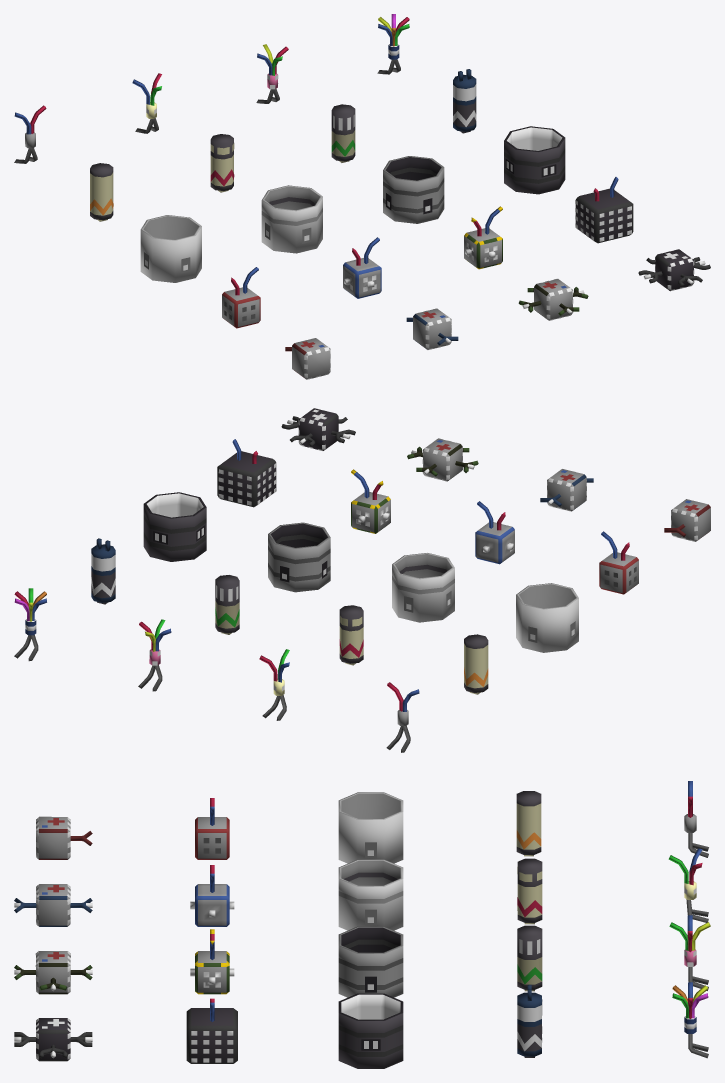
Rendered from MachineParts.fbx.
3 views of the same model, one above another, from view 1: azimuth 30°, elevation 25°; view 2: azimuth 150°, elevation 25°; view 3: azimuth 270°, elevation 25° (orthographic). The views are drawn at different scales.
Visible parts, largest first — view 1: BluespaceMatterBin, MatterBin, AdvancedMatterBin, SuperMatterBin, QuadraticCapacitor, TriphasicScanningModule, PhasicScanningModule, SuperCapacitor, AdvancedCapacitor, Capacitor, AdvancedScanningModule, ScanningModule (+8 smaller); view 2: BluespaceMatterBin, SuperMatterBin, MatterBin, AdvancedMatterBin, QuadraticCapacitor, TriphasicScanningModule, PhasicScanningModule, SuperCapacitor, AdvancedCapacitor, Capacitor, AdvancedScanningModule, QuadUltraHighPowerMicroLaser (+8 smaller); view 3: BluespaceMatterBin, MatterBin, AdvancedMatterBin, SuperMatterBin, QuadraticCapacitor, TriphasicScanningModule, PhasicScanningModule, AdvancedScanningModule, SuperCapacitor, AdvancedCapacitor, QuadUltraHighPowerMicroLaser, HighPowerMicroLaser (+8 smaller).
Boxes of the visible parts, box(x1,y1,x2,y2) form: BluespaceMatterBin: box(504, 126, 565, 194); MatterBin: box(140, 215, 201, 282); AdvancedMatterBin: box(261, 185, 322, 253); SuperMatterBin: box(383, 156, 444, 223); QuadraticCapacitor: box(575, 177, 633, 243); TriphasicScanningModule: box(638, 249, 710, 291); PhasicScanningModule: box(518, 278, 588, 320); SuperCapacitor: box(464, 206, 502, 269); AdvancedCapacitor: box(343, 237, 381, 298); Capacitor: box(222, 267, 260, 328); AdvancedScanningModule: box(406, 308, 458, 349); ScanningModule: box(285, 338, 330, 379); BluespaceMatterBin: box(143, 492, 206, 561); SuperMatterBin: box(268, 522, 330, 592); MatterBin: box(516, 583, 578, 652); AdvancedMatterBin: box(392, 553, 454, 622); QuadraticCapacitor: box(217, 439, 276, 507); TriphasicScanningModule: box(281, 408, 355, 450); PhasicScanningModule: box(407, 438, 478, 481); SuperCapacitor: box(351, 469, 390, 533); AdvancedCapacitor: box(475, 501, 514, 564); Capacitor: box(599, 531, 638, 594); AdvancedScanningModule: box(540, 469, 593, 511); QuadUltraHighPowerMicroLaser: box(91, 538, 115, 604); BluespaceMatterBin: box(338, 993, 403, 1068); MatterBin: box(338, 792, 403, 863); AdvancedMatterBin: box(338, 859, 403, 930); SuperMatterBin: box(338, 926, 403, 997); QuadraticCapacitor: box(186, 998, 237, 1063); TriphasicScanningModule: box(14, 1018, 92, 1061); PhasicScanningModule: box(14, 951, 92, 994); AdvancedScanningModule: box(14, 884, 92, 926); SuperCapacitor: box(190, 929, 234, 994); AdvancedCapacitor: box(190, 865, 234, 926); QuadUltraHighPowerMicroLaser: box(517, 984, 542, 1057); HighPowerMicroLaser: box(517, 858, 542, 924).
Bounding box in the file's own units: 1.73 × 0.2378 × 2.2.
